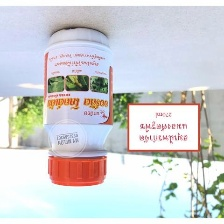insecticide: (40, 22, 116, 189)
